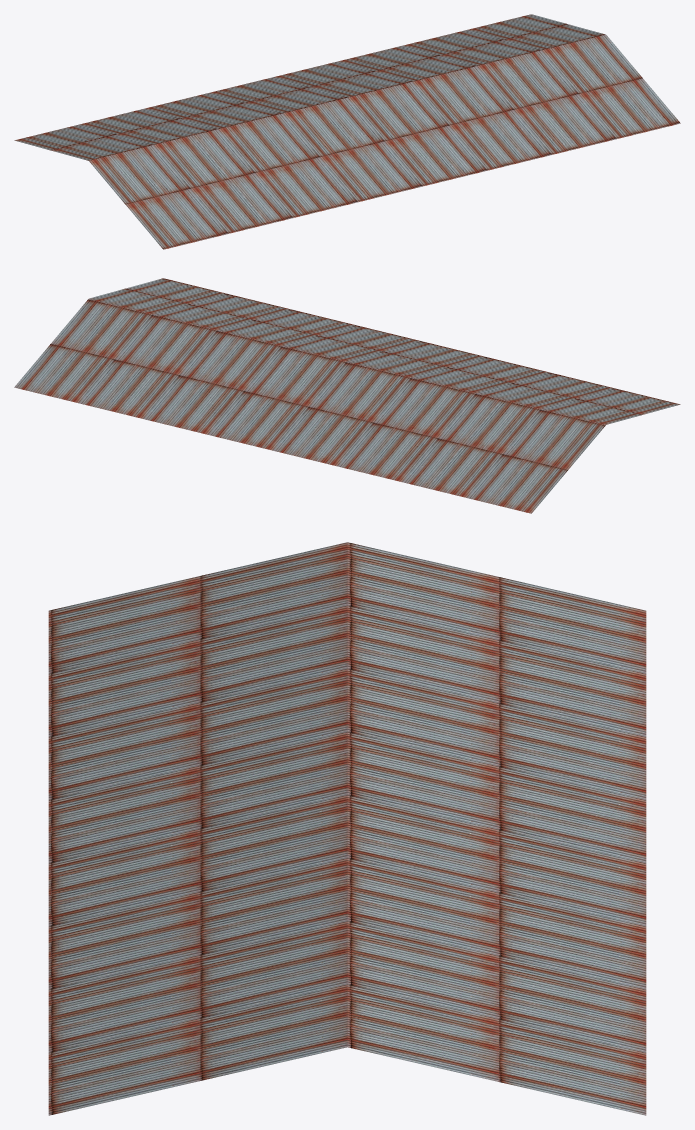
The model's file is openbuildinga001_id_1_metalcorrugatedb_0_lev1.glb.
3 views of the same model, one above another, from view 1: azimuth 30°, elevation 25°; view 2: azimuth 150°, elevation 25°; view 3: azimuth 270°, elevation 25° (orthographic). The views are drawn at different scales.
Visible parts, largest first — view 1: openbuildinga001_id_1_metalcorrugatedb_0_lev1; view 2: openbuildinga001_id_1_metalcorrugatedb_0_lev1; view 3: openbuildinga001_id_1_metalcorrugatedb_0_lev1.
Boxes of the visible parts, x1,y1,x2,y2 form: openbuildinga001_id_1_metalcorrugatedb_0_lev1: (14, 14, 680, 249); openbuildinga001_id_1_metalcorrugatedb_0_lev1: (14, 278, 680, 513); openbuildinga001_id_1_metalcorrugatedb_0_lev1: (48, 542, 646, 1115).
Bounding box in the file's own units: 12.85 × 0.8118 × 6.42.
1 material, 1 textured.
